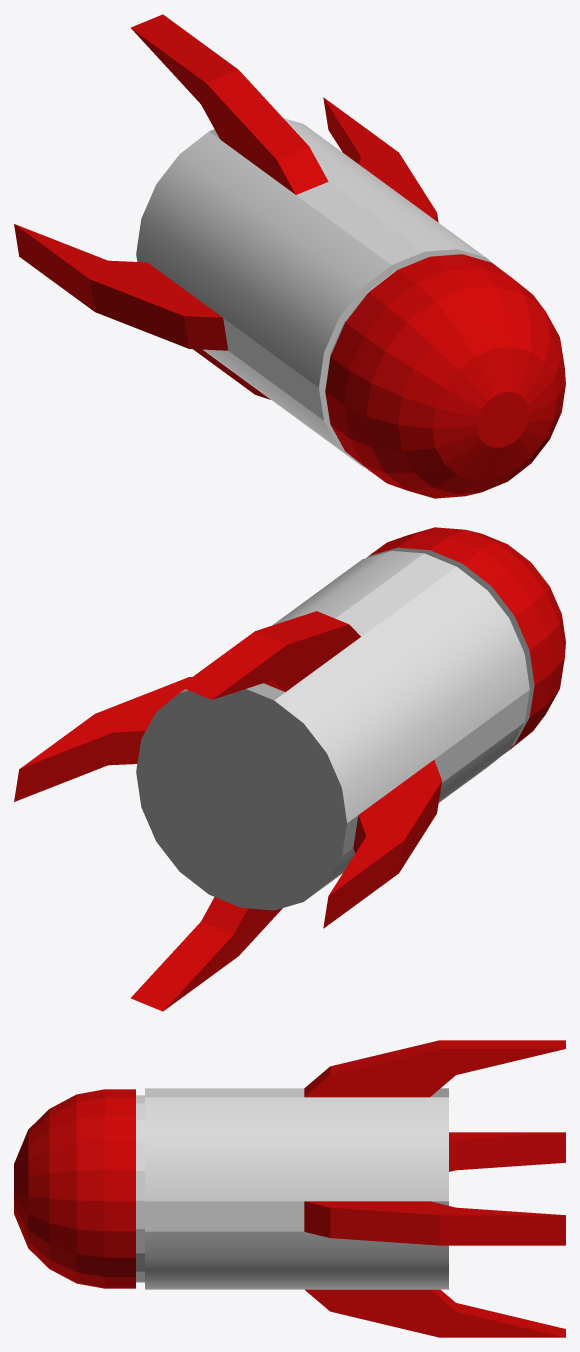
File: Projectile2.fbx
3 views of the same model, one above another, from view 1: azimuth 30°, elevation 25°; view 2: azimuth 150°, elevation 25°; view 3: azimuth 270°, elevation 25° (orthographic). The views are drawn at different scales.
Parts seen in each view (by area): view 1: Projectile; view 2: Projectile; view 3: Projectile.
Boxes of the visible parts, x1,y1,x2,y2 form: Projectile: (14,14,565,498); Projectile: (14,527,565,1011); Projectile: (14,1040,565,1337).
Bounding box in the file's own units: 2.98 × 2.98 × 5.45.
